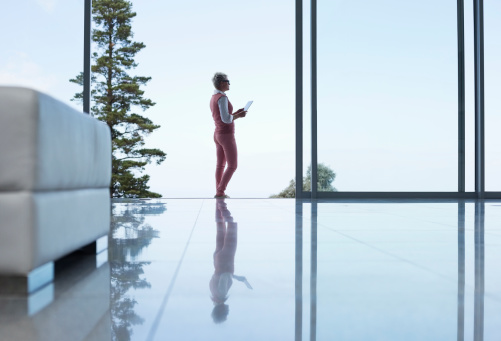em pe: (204, 68, 242, 225)
